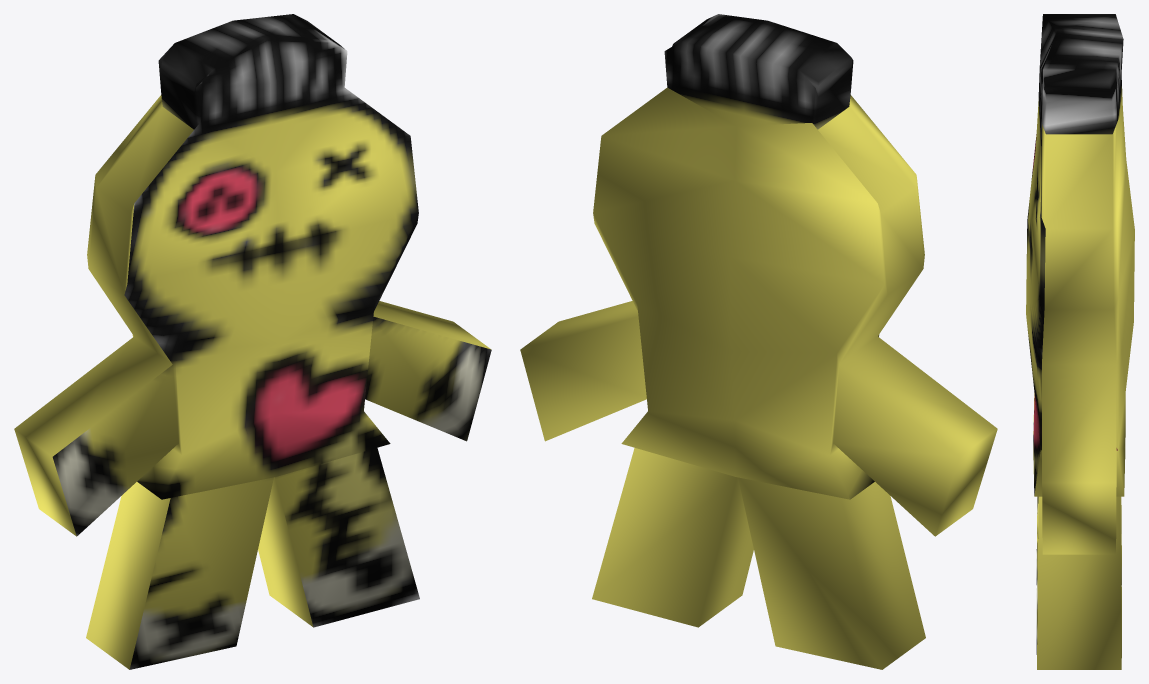
File: Dolls.fbx
The picture shows the model from 3 angles, left to right: view 1: azimuth 30°, elevation 25°; view 2: azimuth 150°, elevation 25°; view 3: azimuth 270°, elevation 25°; orthographic projection. The views are drawn at different scales.
Visible parts, largest first — view 1: Doll; view 2: Doll; view 3: Doll.
Boxes of the visible parts, x1,y1,x2,y2 form: Doll: [14, 14, 491, 669]; Doll: [520, 14, 997, 669]; Doll: [1026, 14, 1134, 669].
Size of the model in its own units: 52.53 by 67.56 by 11.63.
2 materials, 1 textured.
